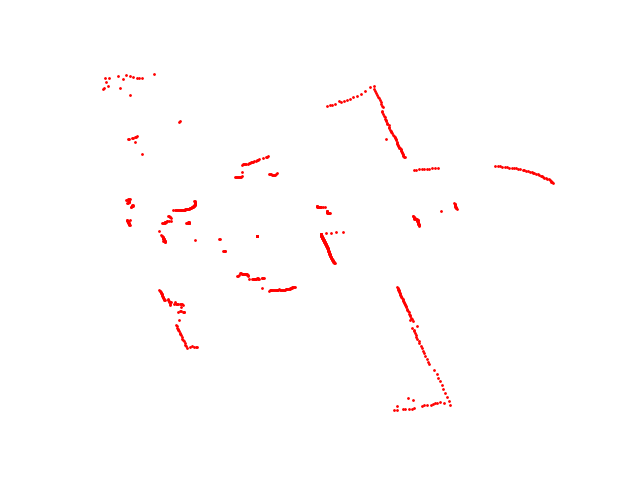person: (232, 169, 280, 180), (313, 202, 335, 218)
